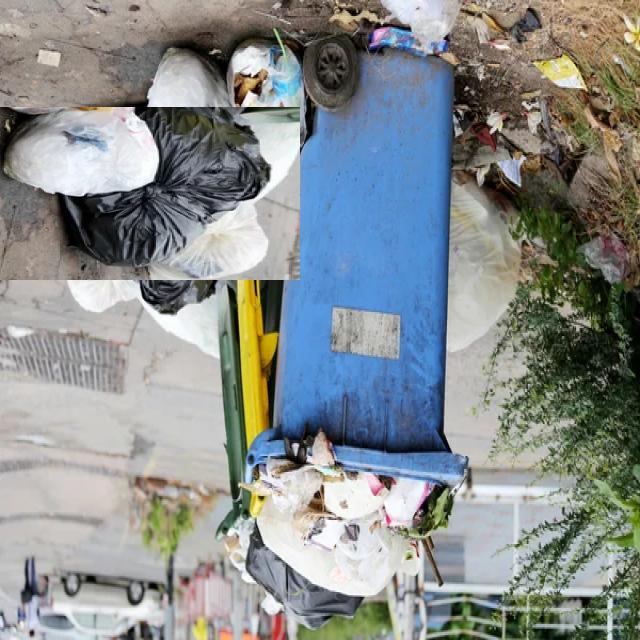garbage: (28, 74, 267, 312)
